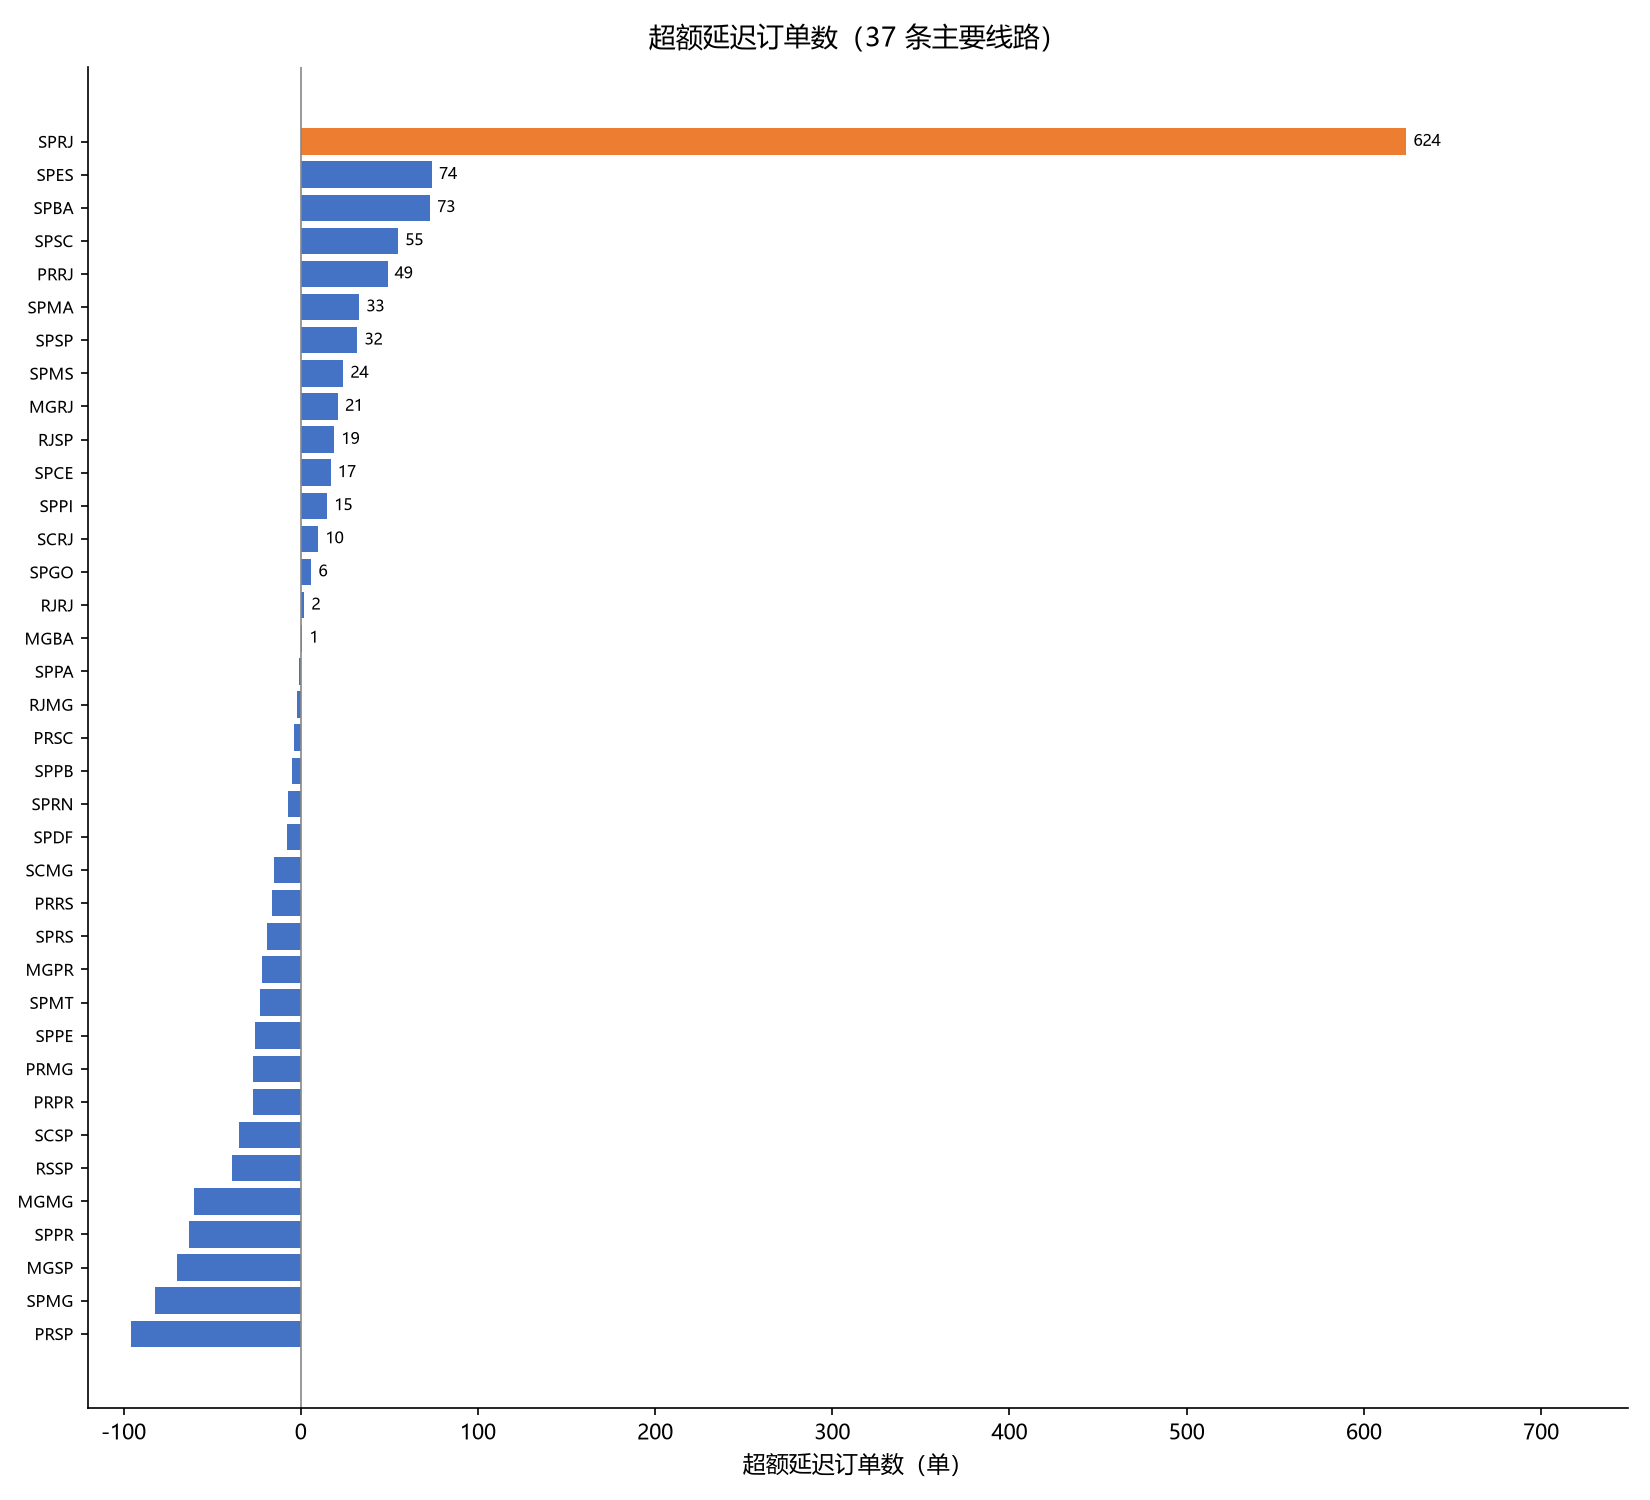

Layout of this report page (visuals, bound fields, positions):
{"tool":"powerbi","page":{"name":"第 4 页","canvas":[1920,1080],"ordinal":3},"visuals":[{"type":"barChart","title":"不正常超额延迟贡献 ","fields":{"Category":["分线路统计.地点组"],"Y":["Sum(分线路统计.超额延迟贡献)"]},"box":[9.1,0,1910.9,1080.6],"z":0}]}

Visuals, with their boxes on the page's 1920x1080 design canvas (x1, y1, x2, y2). These are canvas units, not pixel positions in the 1650x1500 screenshot, which may show the page scaled, cropped or inside an application window:
"不正常超额延迟贡献 " barChart: locate(9, 0, 1920, 1081)
